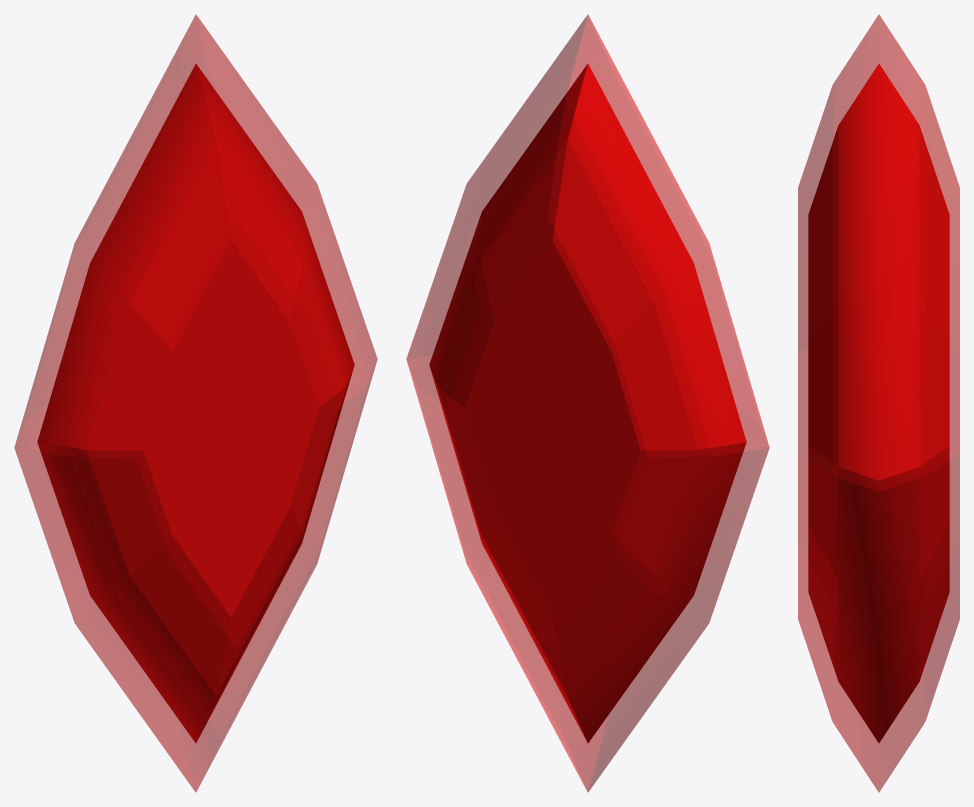
File: gem.fbx
The picture shows the model from 3 angles, left to right: view 1: azimuth 30°, elevation 25°; view 2: azimuth 150°, elevation 25°; view 3: azimuth 270°, elevation 25°; orthographic projection.
Parts seen in each view (by area): view 1: pCube3; view 2: pCube3; view 3: pCube3.
Boxes of the visible parts, x1,y1,x2,y2 form: pCube3: (14,14,377,792); pCube3: (406,14,769,792); pCube3: (798,14,959,792).
Size of the model in its own units: 1.32 by 2.7 by 0.5093.
